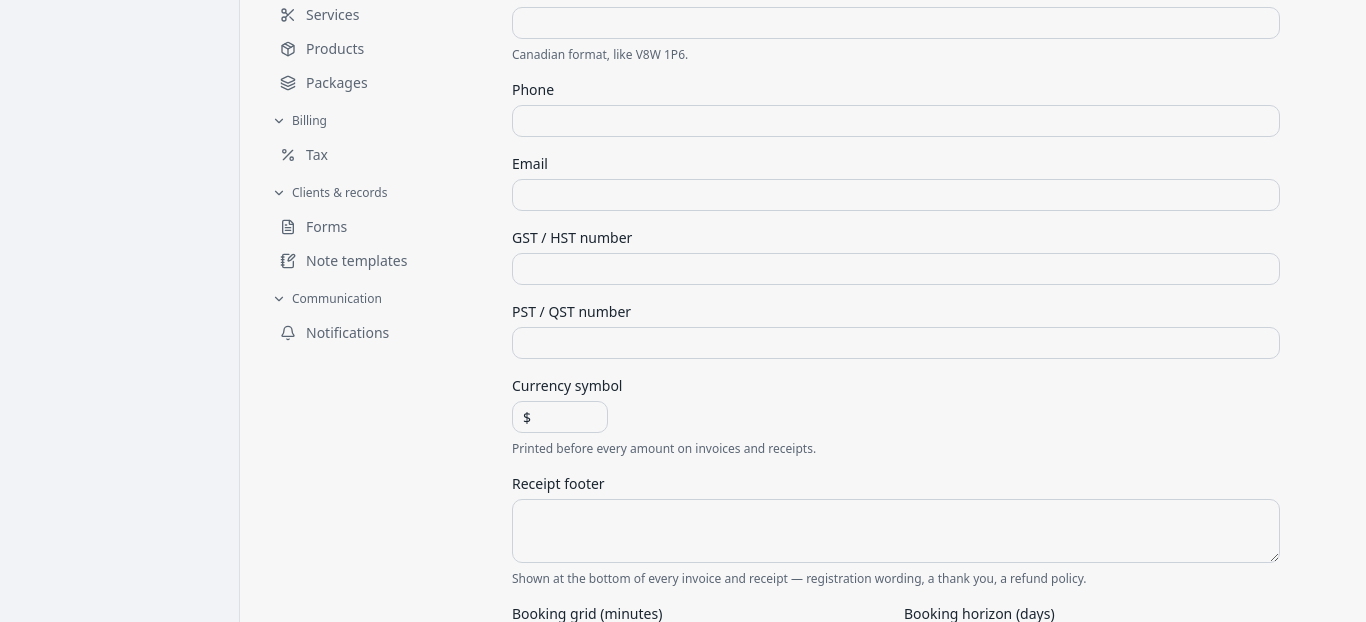
it: an unconfigured sender says so plainly
(page scrolled)
Click the button "Notifications": x=380, y=333 [272,317,488,349]
(page scrolled)
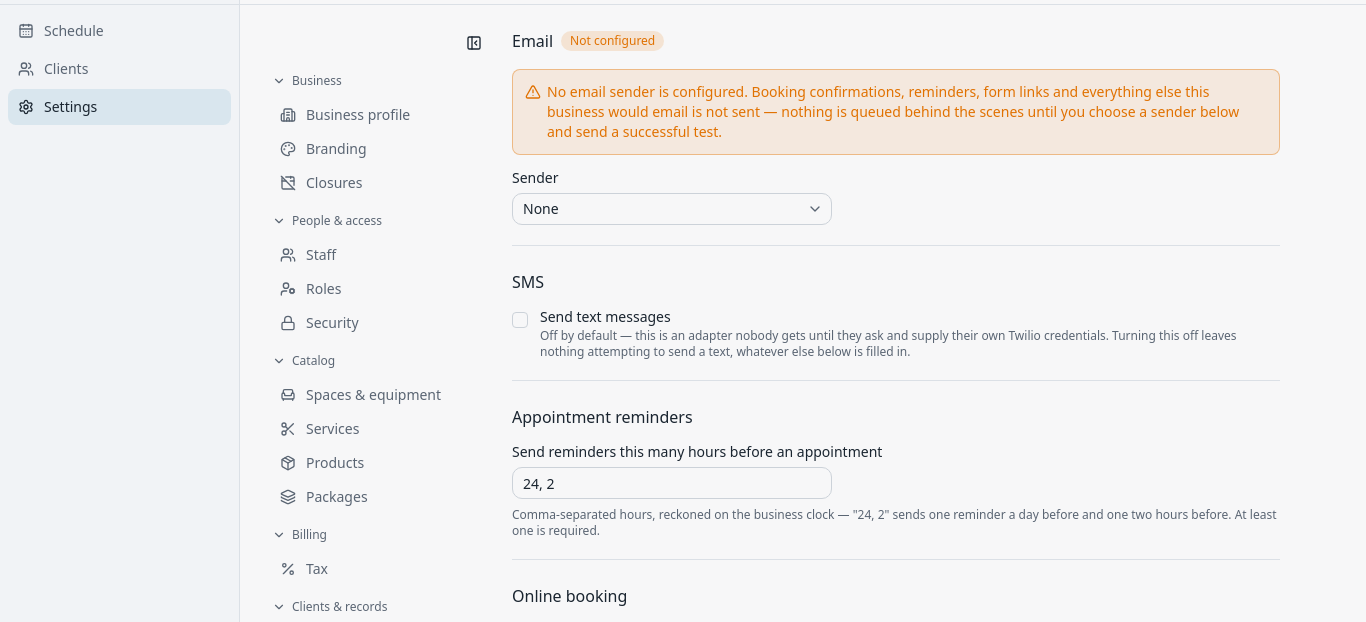
Check: the text "No email sender is configured" is shown, box [547,82,1239,141]
Check: the text "Not configured" is shown, box [561,31,664,51]
